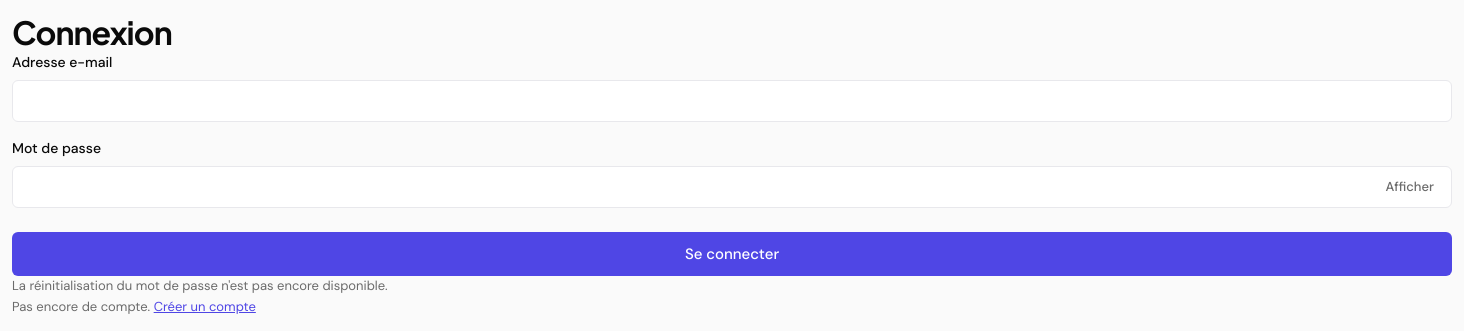
Test case: Formulaire de connexion — affichage du mot de passe (CA15) › CA15 — « Afficher » rend la saisie lisible sans envoyer, « Masquer » la masque, valeur inchangée
Type "mon secret" into the password field labelled "Mot de passe" at (732, 187), box [12,166,1452,208]
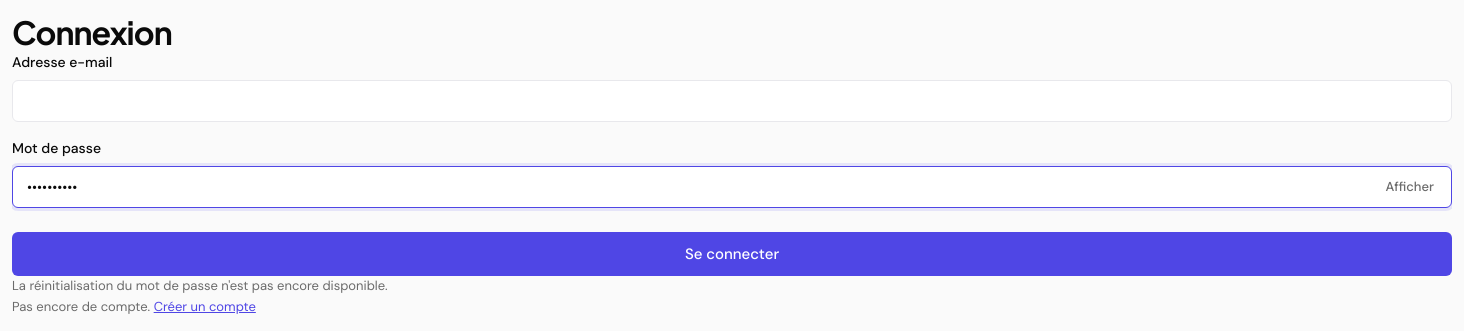
Click the button with aria-label "Afficher le mot de passe" at (1410, 187), box [1374,171,1446,203]
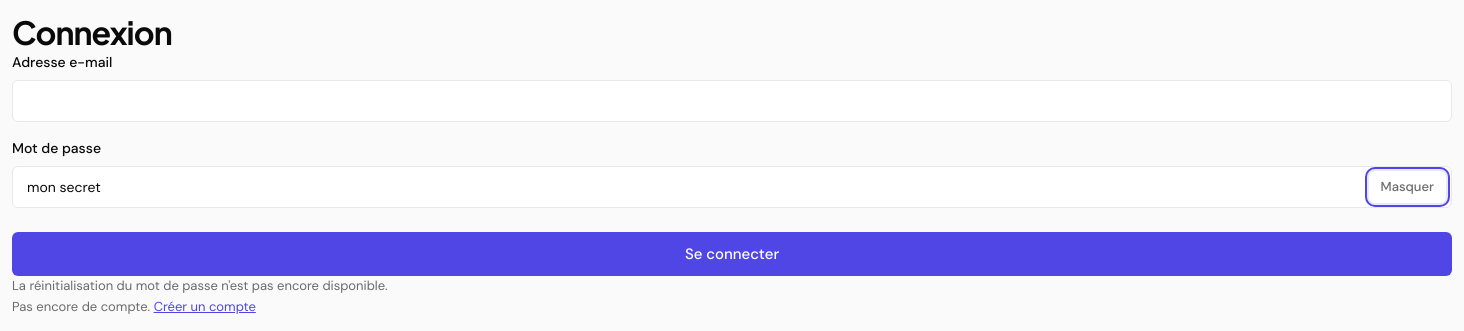
Check: the field labelled "Mot de passe" shows its text, box [12,166,1452,208]
Check: the button with aria-label "Masquer le mot de passe" reads "Masquer"
Click the button with aria-label "Masquer le mot de passe" at (1407, 187), box [1369,171,1446,203]
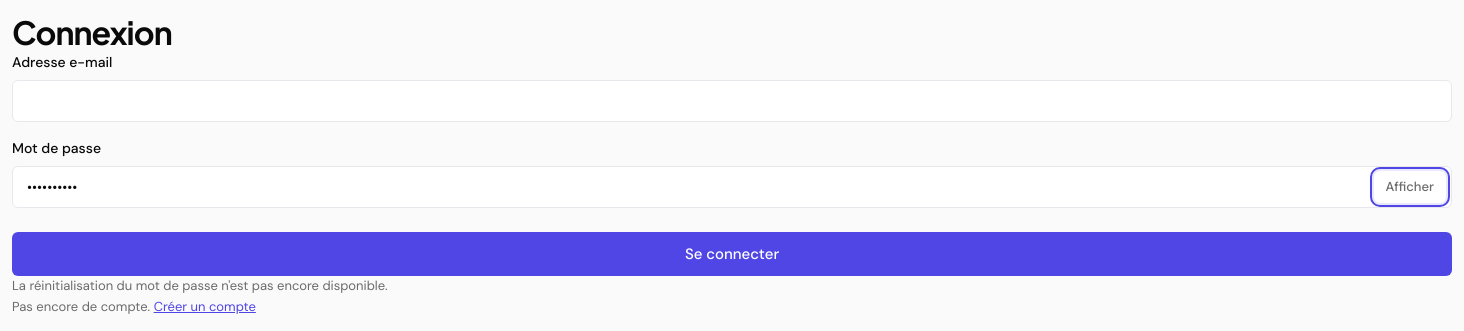
Check: the password field labelled "Mot de passe" hides its text, box [12,166,1452,208]
